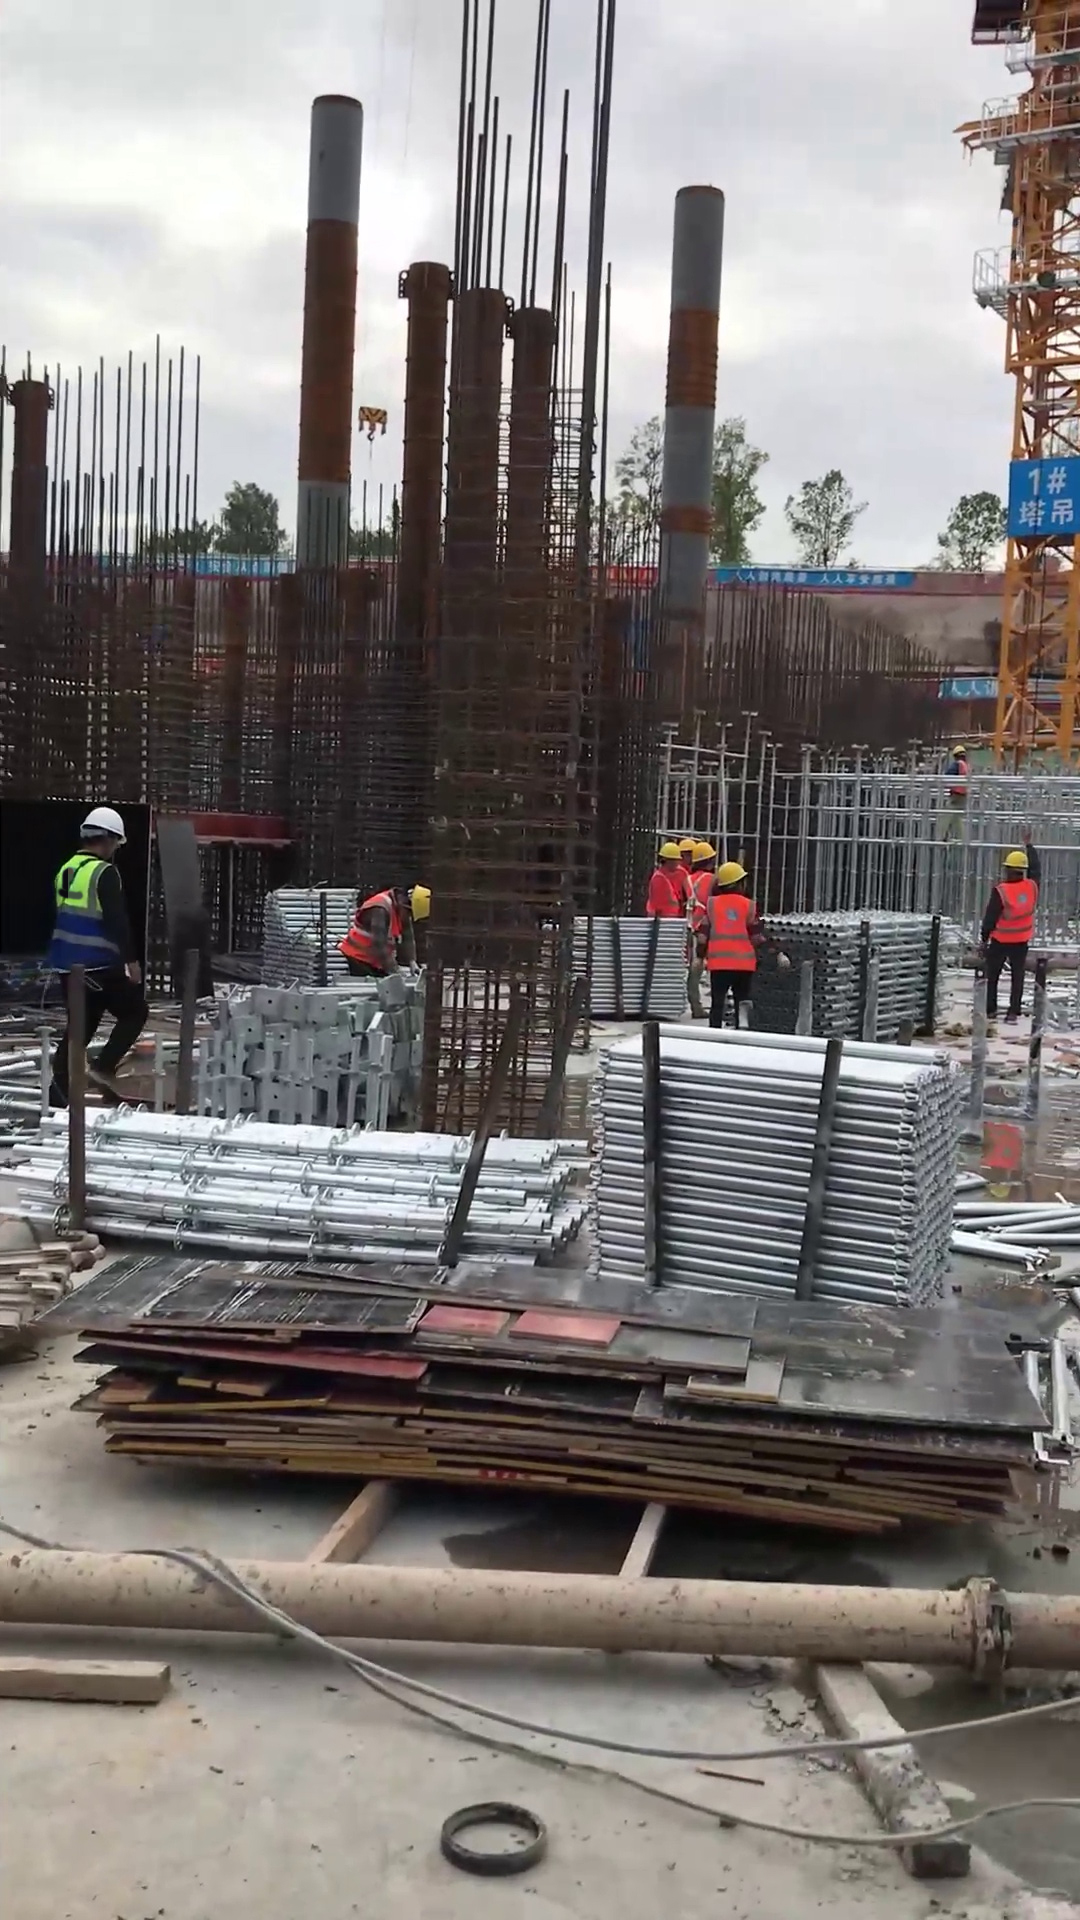board: (71, 1237, 1080, 1557)
helmet: (78, 804, 128, 849), (993, 836, 1033, 882), (711, 858, 754, 894), (654, 836, 690, 871), (407, 885, 436, 928), (685, 833, 714, 875), (949, 743, 971, 764)
hook: (352, 401, 399, 448)
person: (40, 799, 168, 1117), (694, 850, 786, 1042), (968, 832, 1047, 1017), (333, 876, 443, 992), (633, 831, 692, 929), (678, 828, 726, 938), (933, 735, 986, 811)
scaffold: (571, 1013, 961, 1332), (756, 898, 959, 1051), (561, 906, 697, 1034), (252, 867, 354, 989)
slogan: (719, 565, 916, 588)
vest: (49, 853, 132, 983), (339, 885, 414, 975), (700, 888, 755, 976), (986, 874, 1037, 949), (640, 861, 690, 919), (679, 869, 710, 921), (946, 763, 979, 803)
